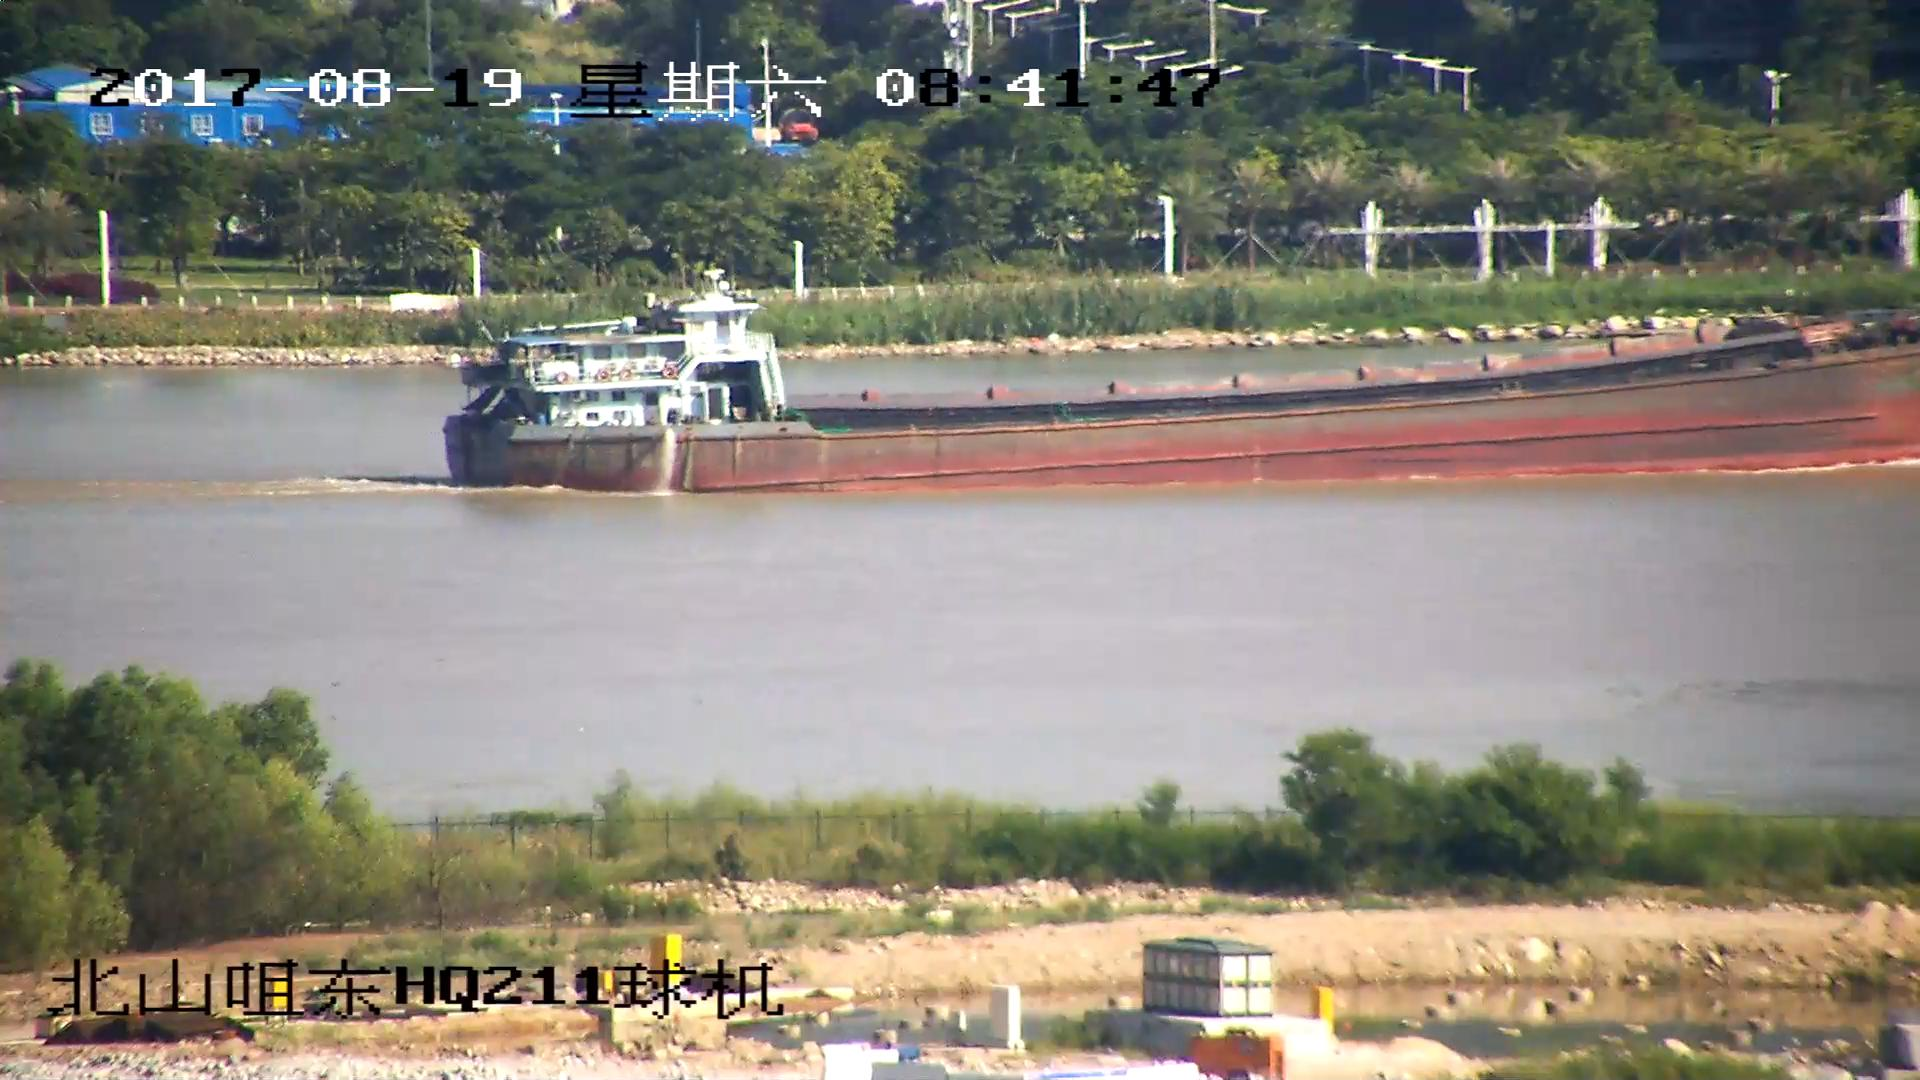bulk cargo carrier: (435, 271, 1920, 495)
